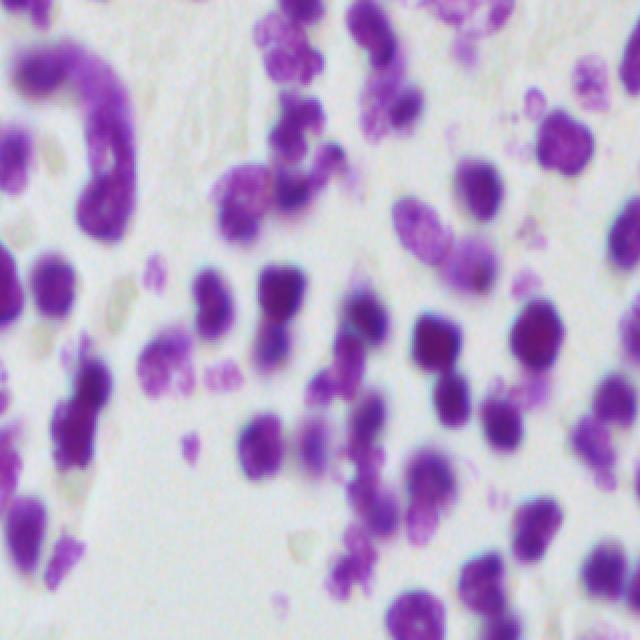cell: (0, 2, 640, 637), (236, 280, 458, 599), (210, 0, 351, 245), (11, 38, 138, 241), (480, 269, 565, 451), (0, 423, 86, 590), (140, 267, 244, 399), (570, 292, 640, 488), (346, 2, 424, 140), (392, 197, 499, 293), (50, 331, 112, 473), (1, 241, 79, 329), (411, 314, 471, 427), (521, 88, 595, 176), (251, 264, 309, 374), (252, 264, 308, 372), (421, 0, 509, 65), (460, 554, 522, 637), (581, 541, 640, 615), (454, 158, 505, 221), (512, 498, 561, 562), (385, 589, 445, 638), (608, 192, 640, 271), (571, 56, 608, 110), (619, 19, 640, 98), (1, 0, 51, 29)
